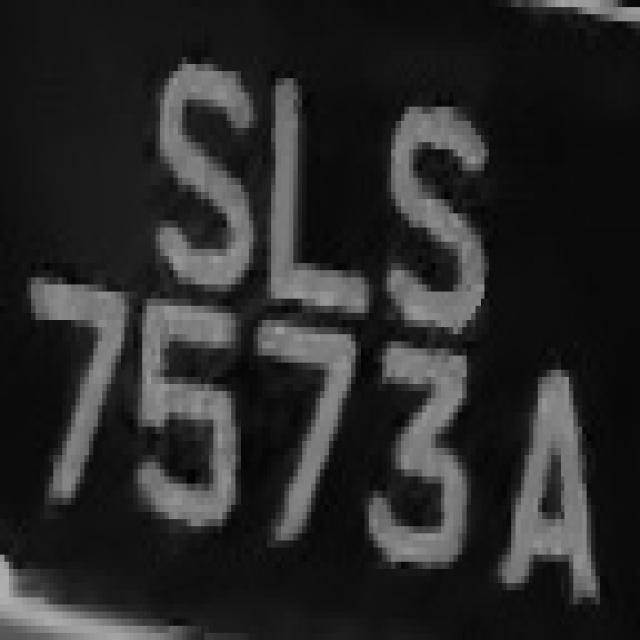3: (360, 313, 480, 576)
5: (124, 263, 244, 533)
7: (235, 298, 369, 562), (18, 235, 133, 519)
A: (480, 334, 618, 626)
L: (254, 43, 374, 334)
S: (138, 28, 262, 306), (364, 85, 494, 348)
